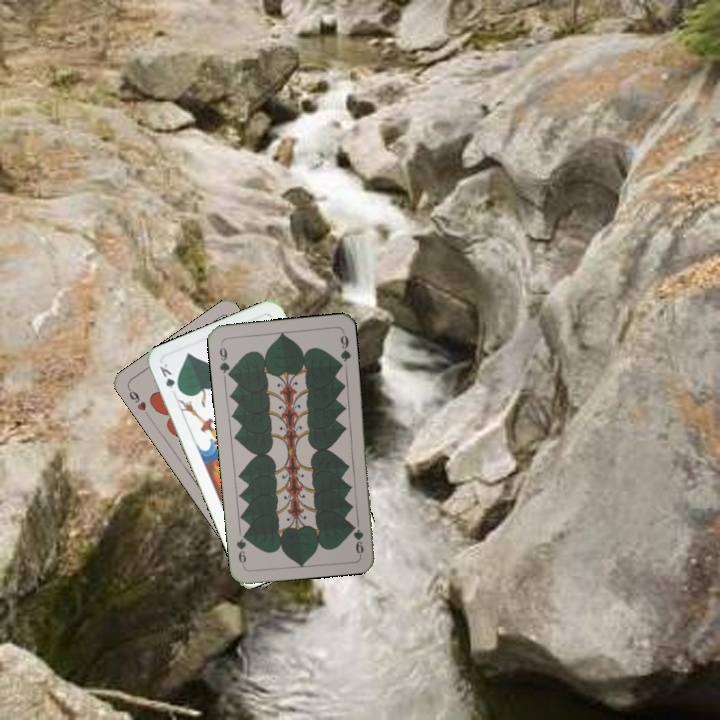G9: (215, 340, 234, 380), (350, 525, 366, 556)
GK: (155, 359, 183, 399)
H9: (124, 384, 152, 419)
